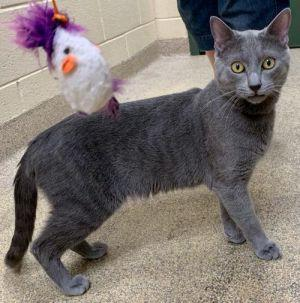rblue: (203, 8, 300, 108)
